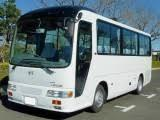bus: (6, 5, 152, 116)
